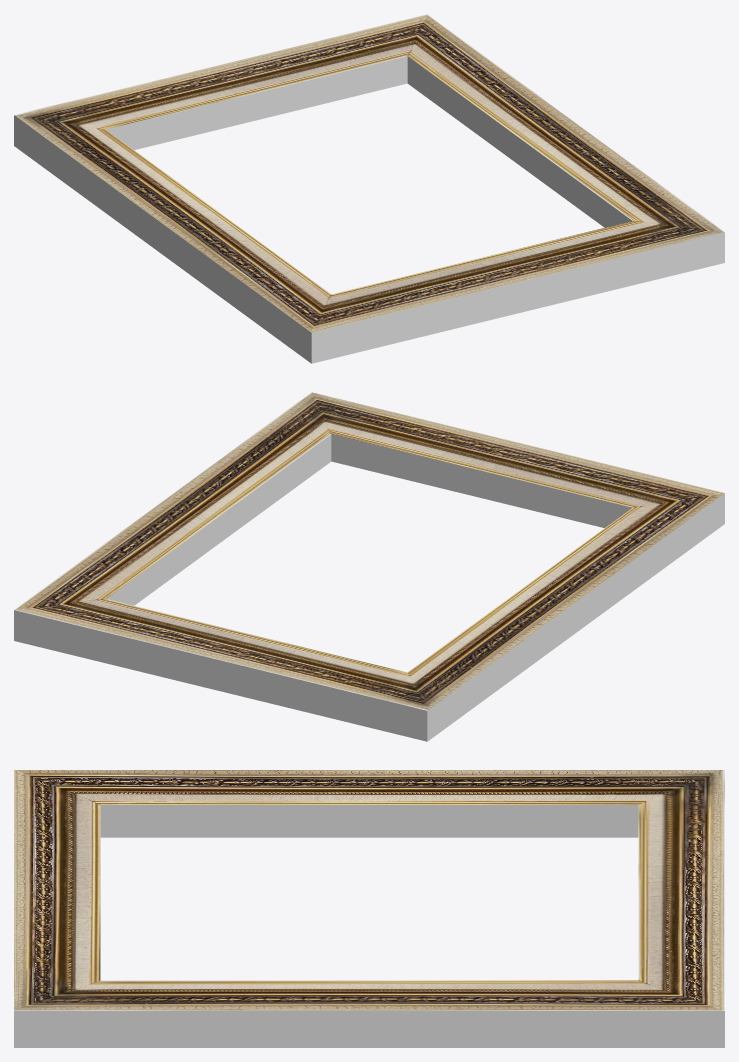
The model's file is Frame.fbx.
The picture shows the model from 3 angles, top to bottom: view 1: azimuth 30°, elevation 25°; view 2: azimuth 150°, elevation 25°; view 3: azimuth 270°, elevation 25°; orthographic projection. The views are drawn at different scales.
Parts seen in each view (by area): view 1: Cube; view 2: Cube; view 3: Cube.
Boxes of the visible parts, bbox=[...] form: Cube: bbox=[14, 14, 724, 363]; Cube: bbox=[14, 392, 724, 741]; Cube: bbox=[14, 770, 724, 1047].
Size of the model in its own units: 711 by 50.88 by 887.
